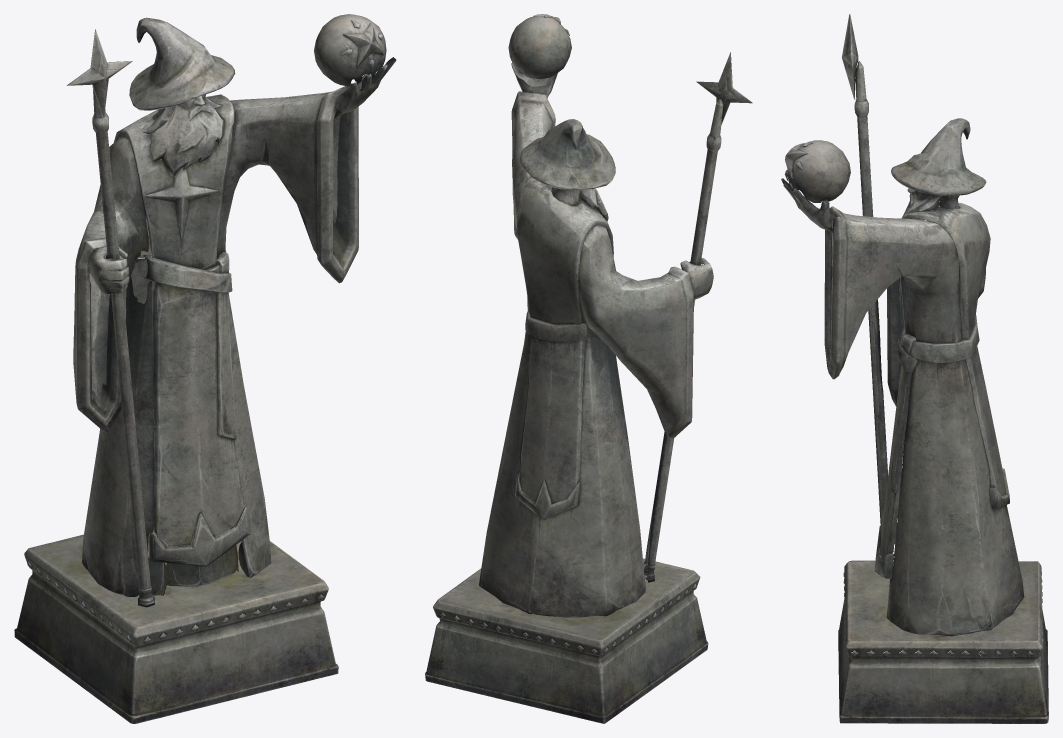
3 renders of one model, left to right at view 1: azimuth 30°, elevation 25°; view 2: azimuth 150°, elevation 25°; view 3: azimuth 270°, elevation 25°, orthographic. The views are drawn at different scales.
Visible parts, largest first — view 1: SM_SaradominTemple_Statue_01_v3_LOD0; view 2: SM_SaradominTemple_Statue_01_v3_LOD0; view 3: SM_SaradominTemple_Statue_01_v3_LOD0.
Boxes of the visible parts, <box> form: SM_SaradominTemple_Statue_01_v3_LOD0: <box>14,14,396,723</box>; SM_SaradominTemple_Statue_01_v3_LOD0: <box>425,14,752,723</box>; SM_SaradominTemple_Statue_01_v3_LOD0: <box>781,14,1048,723</box>.
Size of the model in its own units: 2.86 by 6.46 by 2.58.
Materials: 7 (7 with a texture image).
